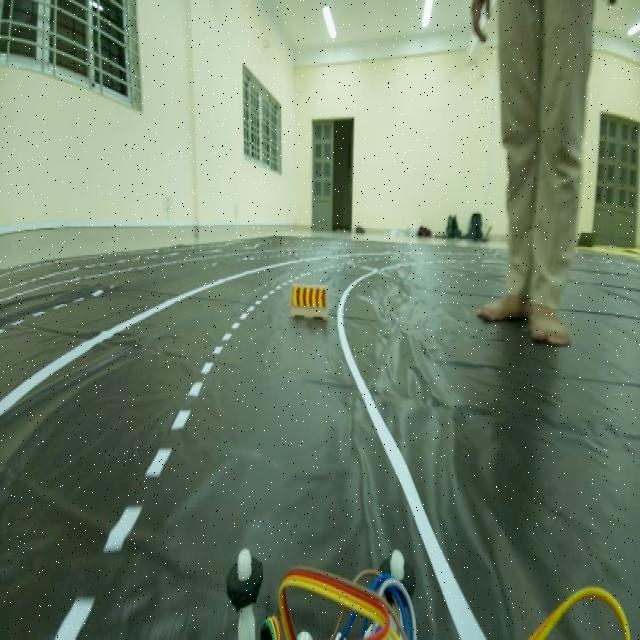roadblock: (290, 272, 336, 326)
